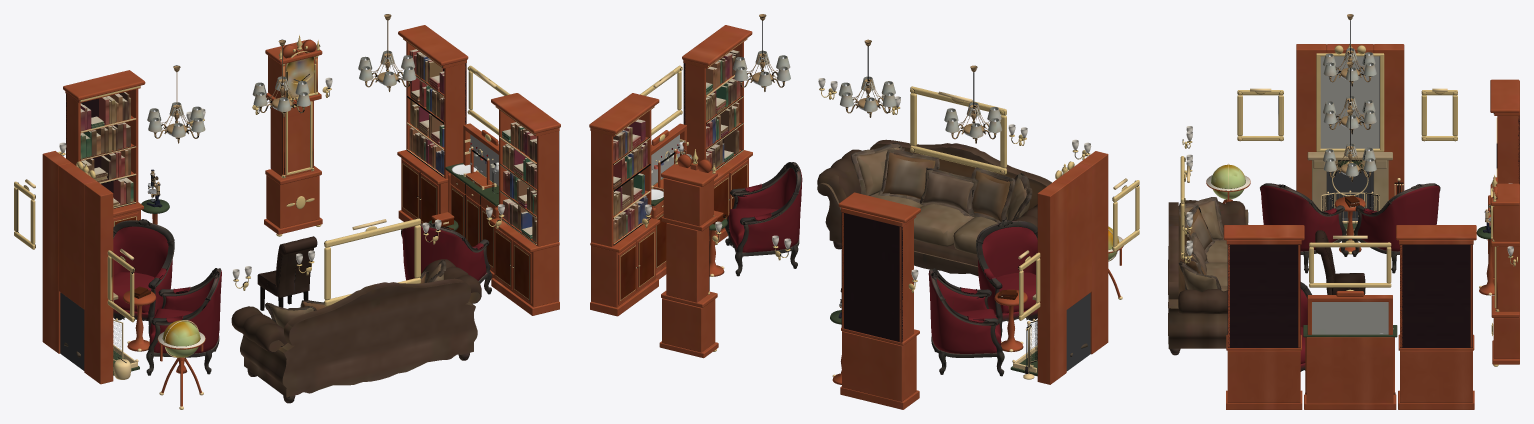
File: railcar-furnishings.glb
3 renders of one model, left to right at view 1: azimuth 30°, elevation 25°; view 2: azimuth 150°, elevation 25°; view 3: azimuth 270°, elevation 25°, orthographic. The views are drawn at different scales.
Parts seen in each view (by area): view 1: railcar furnishings; view 2: railcar furnishings; view 3: railcar furnishings.
Boxes of the visible parts, box(x1,y1,x2,y2) form: railcar furnishings: box(14, 14, 560, 409); railcar furnishings: box(589, 14, 1139, 409); railcar furnishings: box(1168, 14, 1519, 409).
Bounding box in the file's own units: 52.13 × 31.89 × 40.44.
8 materials, 8 textured.
